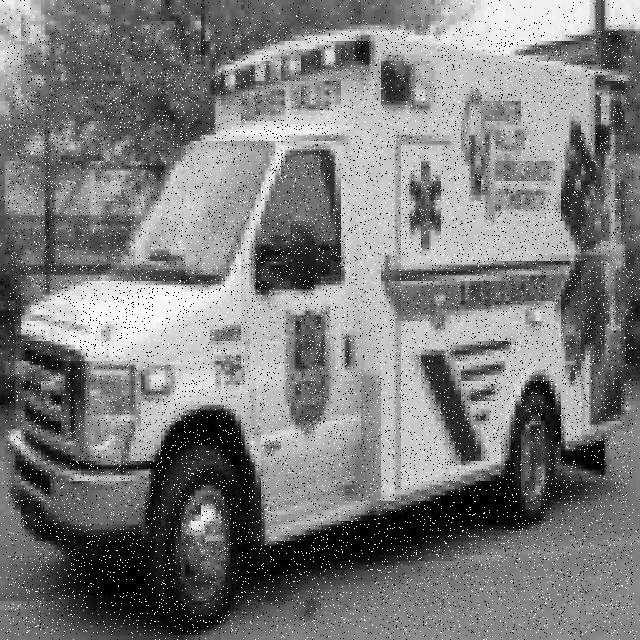Ambulance: (8, 28, 633, 634)
